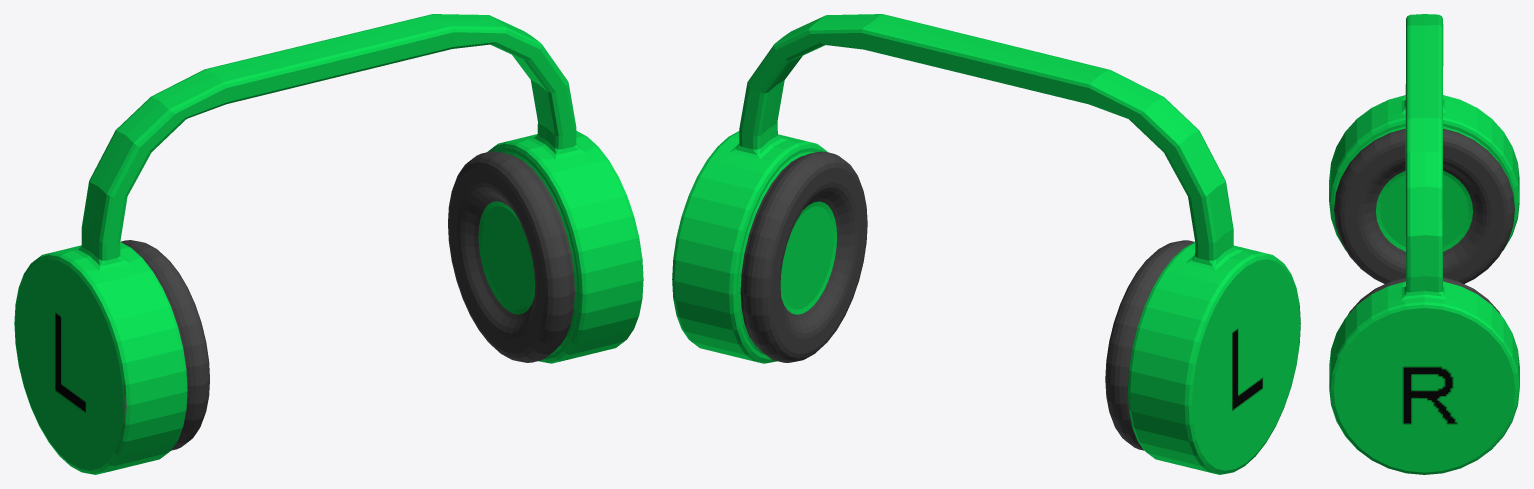
The model's file is hat.fbx.
The picture shows the model from 3 angles, left to right: view 1: azimuth 30°, elevation 25°; view 2: azimuth 150°, elevation 25°; view 3: azimuth 270°, elevation 25°; orthographic projection. The views are drawn at different scales.
Visible parts, largest first — view 1: Cylinder; view 2: Cylinder; view 3: Cylinder.
Boxes of the visible parts, box(x1,y1,x2,y2) form: Cylinder: box(14, 14, 643, 474); Cylinder: box(672, 14, 1300, 474); Cylinder: box(1329, 14, 1519, 474).
Size of the model in its own units: 168 by 110 by 63.54.
1 material, 1 textured.
